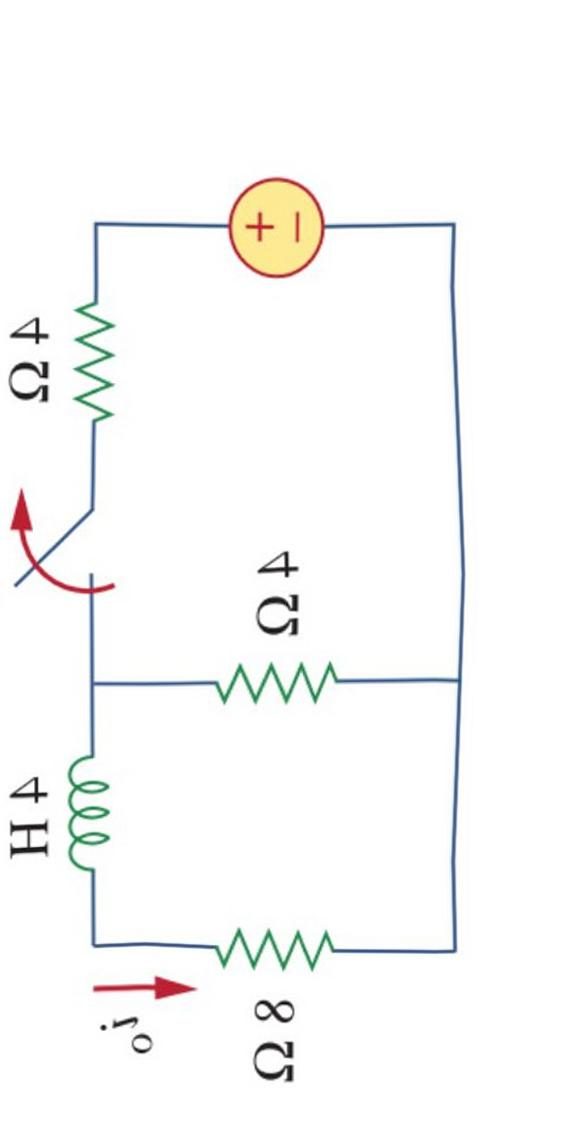Battery: (190, 149, 351, 320)
